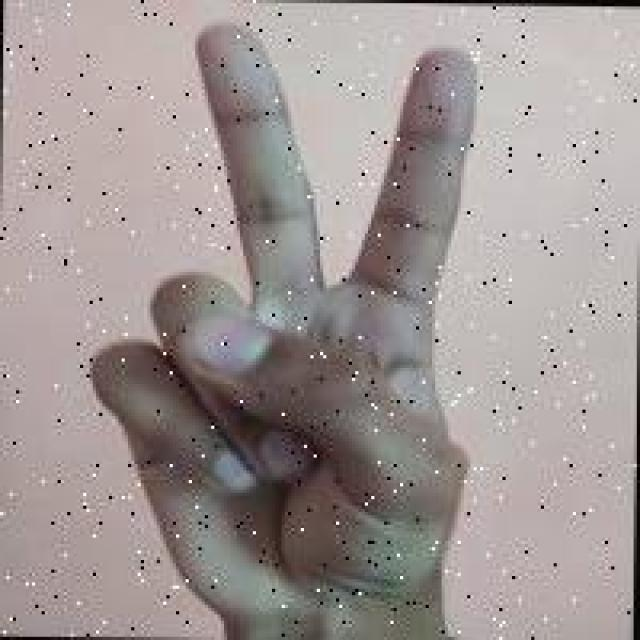V: (78, 11, 494, 629)
